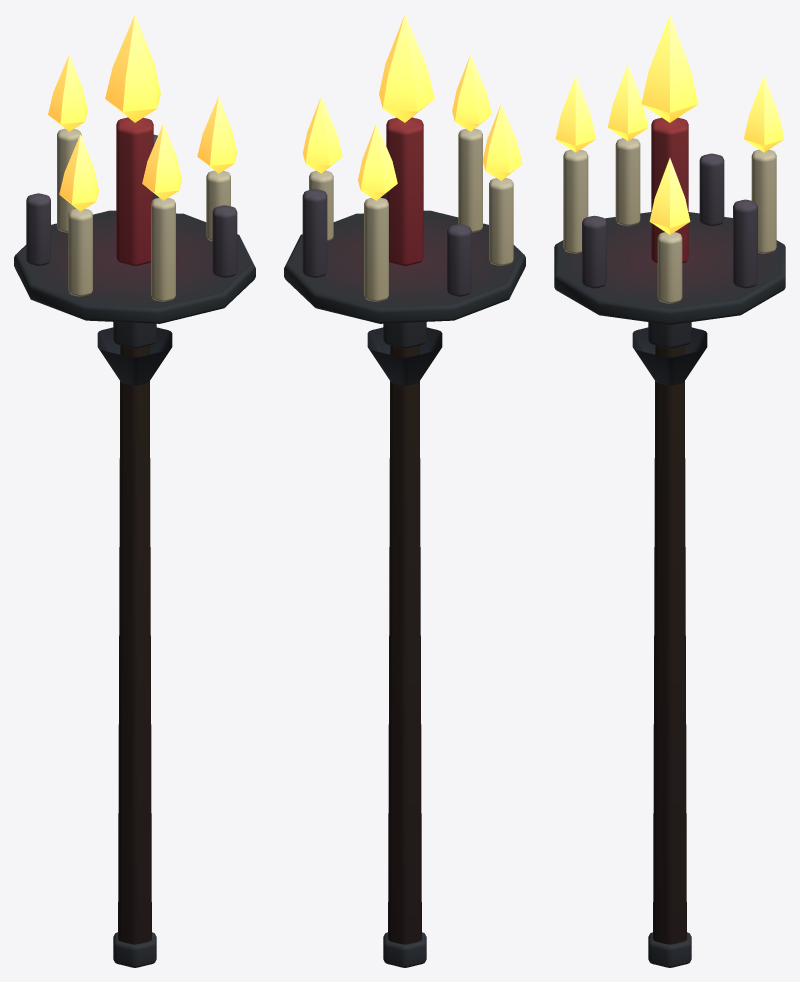
Rendered from lg_covenfire_staff.glb.
The picture shows the model from 3 angles, left to right: view 1: azimuth 30°, elevation 25°; view 2: azimuth 150°, elevation 25°; view 3: azimuth 270°, elevation 25°; orthographic projection.
Visible parts, largest first — view 1: lg_covenfire_staff, lg_covenfire_staff_glow; view 2: lg_covenfire_staff, lg_covenfire_staff_glow; view 3: lg_covenfire_staff, lg_covenfire_staff_glow.
Part boxes in pixels (bbox=[...]): lg_covenfire_staff: bbox=[14, 117, 255, 967]; lg_covenfire_staff_glow: bbox=[48, 14, 236, 211]; lg_covenfire_staff: bbox=[284, 117, 525, 967]; lg_covenfire_staff_glow: bbox=[303, 14, 522, 200]; lg_covenfire_staff: bbox=[554, 117, 785, 967]; lg_covenfire_staff_glow: bbox=[555, 14, 784, 234].
Size of the model in its own units: 0.68 by 2.92 by 0.6467.
